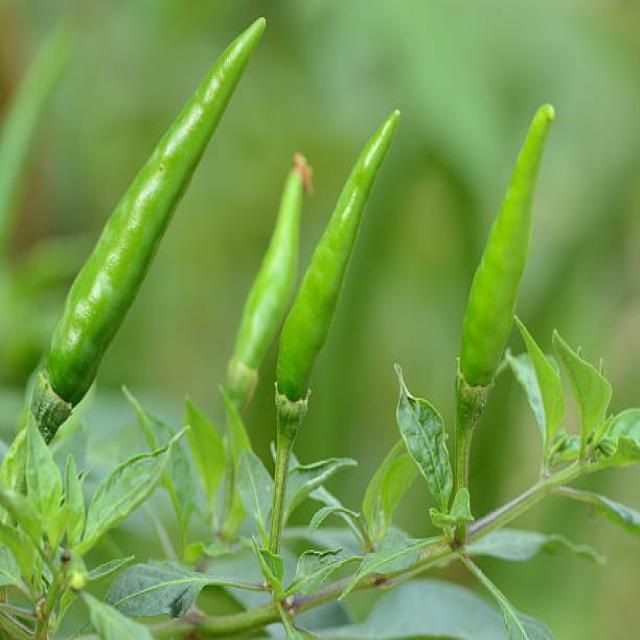Unripe: (29, 16, 268, 444), (279, 109, 402, 390), (460, 103, 556, 387)
